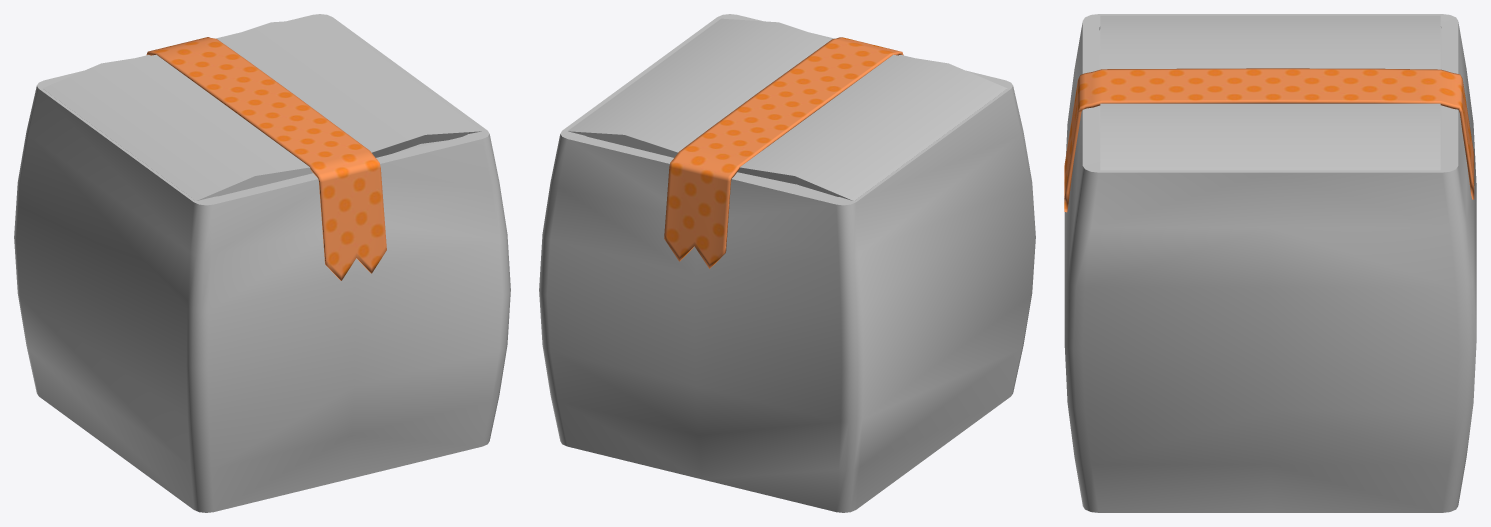
File: Packed-Box.fbx
The picture shows the model from 3 angles, left to right: view 1: azimuth 30°, elevation 25°; view 2: azimuth 150°, elevation 25°; view 3: azimuth 270°, elevation 25°; orthographic projection. The views are drawn at different scales.
Parts seen in each view (by area): view 1: Box, polySurface4, pCube1, polySurface1; view 2: Box, polySurface4, polySurface1, pCube1; view 3: Box, polySurface1, polySurface4, pCube1.
Boxes of the visible parts, x1,y1,x2,y2 form: Box: (14,14,510,512); polySurface4: (42,54,312,200); pCube1: (146,37,386,280); polySurface1: (219,18,481,157); Box: (539,14,1035,512); polySurface4: (737,54,1007,200); polySurface1: (568,18,830,157); pCube1: (664,37,903,268); Box: (1064,14,1476,512); polySurface1: (1100,103,1440,170); polySurface4: (1100,15,1440,69); pCube1: (1064,68,1474,212).
Bounding box in the file's own units: 5.34 × 5.04 × 5.34.
